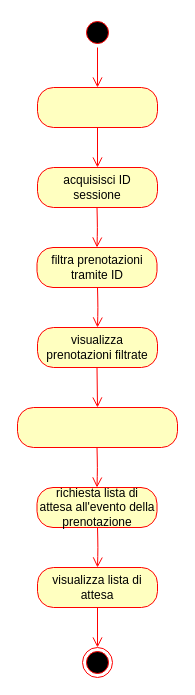
Image size: 195x695. Some labels were removed from this diagram. Here are the shapes that lost their labels. From the top down, the centre of each, then its label:
the point at 97,107: richiesta visualizza prenotazioni effettuate
the point at 97,427: acquisisci prenotazione di cui visualizzare lista attesa
